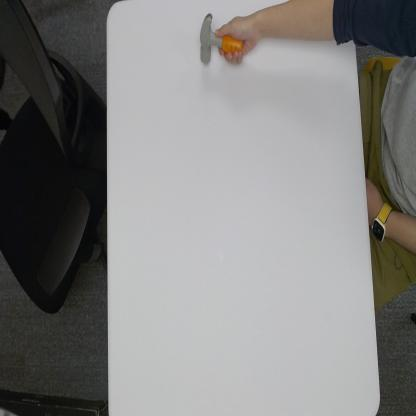Arm: (254, 0, 355, 43)
Hammer: (199, 13, 245, 66)
Hand: (216, 14, 257, 65)
